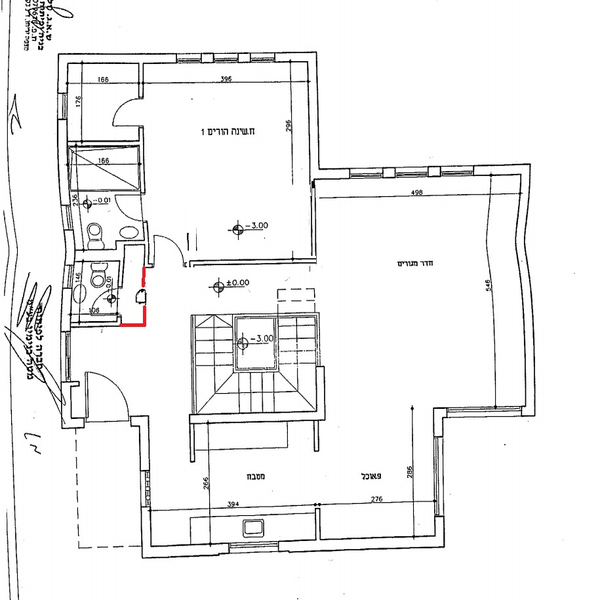door: (80, 369, 137, 423), (148, 222, 195, 274), (100, 94, 142, 133), (114, 188, 149, 223)
room: (301, 157, 541, 424), (57, 44, 327, 269), (137, 411, 457, 552)
wall: (511, 164, 543, 424), (303, 43, 331, 175), (65, 44, 195, 70), (183, 408, 328, 423), (142, 537, 229, 561), (57, 120, 80, 209), (282, 536, 447, 548), (136, 412, 161, 476), (477, 154, 532, 181), (310, 367, 332, 419), (141, 508, 159, 564), (65, 382, 80, 436), (61, 227, 79, 271), (57, 290, 73, 338), (435, 404, 447, 442)
window: (57, 333, 77, 383), (441, 158, 475, 184), (60, 202, 84, 233), (344, 166, 383, 184), (395, 166, 430, 184), (57, 93, 77, 122)
